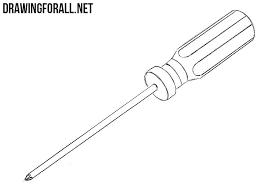screwdriver: (24, 9, 254, 180)
